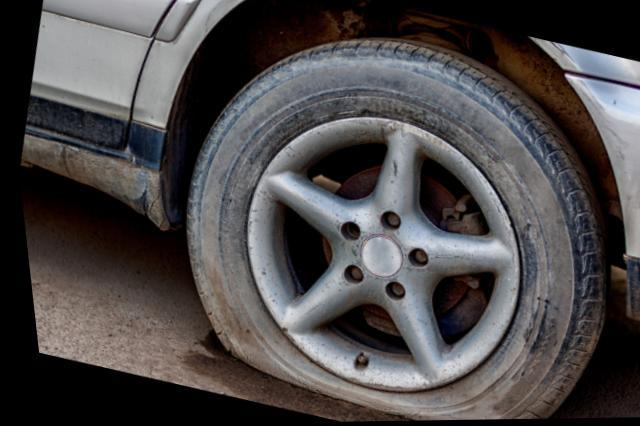tire flat: (182, 34, 604, 422)
